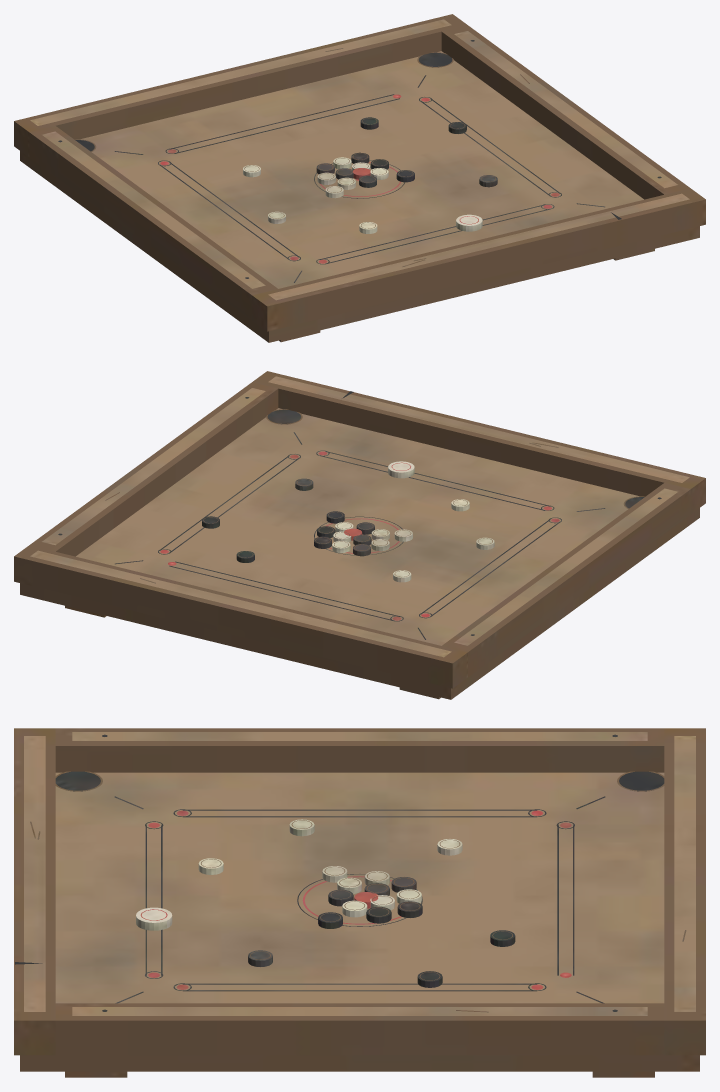
File: SP04_carrom_board.glb
3 views of the same model, one above another, from view 1: azimuth 30°, elevation 25°; view 2: azimuth 150°, elevation 25°; view 3: azimuth 270°, elevation 25° (orthographic). The views are drawn at different scales.
Parts seen in each view (by area): view 1: Stubby underside foot; view 2: Stubby underside foot; view 3: Stubby underside foot.
Part boxes in pixels (box(x1,y1,x2,y2)): Stubby underside foot: box(14, 14, 705, 342); Stubby underside foot: box(14, 371, 705, 699); Stubby underside foot: box(14, 728, 705, 1077).
Bounding box in the file's own units: 0.8 × 0.1015 × 0.8.
Materials: 7 (7 with a texture image).
